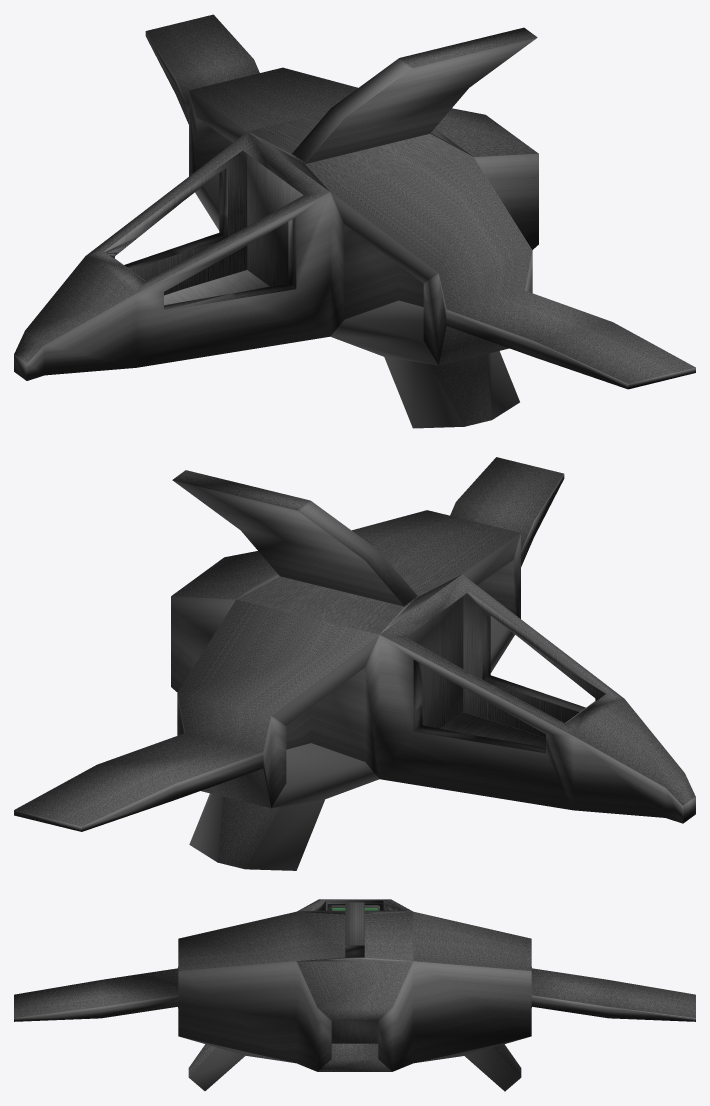
Rendered from Spaceship_w_controlpanel.FBX.
3 renders of one model, top to bottom at view 1: azimuth 30°, elevation 25°; view 2: azimuth 150°, elevation 25°; view 3: azimuth 270°, elevation 25°, orthographic. The views are drawn at different scales.
Parts seen in each view (by area): view 1: Spaceship; view 2: Spaceship; view 3: Spaceship.
Part boxes in pixels (x1,y1,x2,y2): Spaceship: (14,14,695,428); Spaceship: (14,457,695,870); Spaceship: (14,899,695,1091).
Bounding box in the file's own units: 138 × 67.91 × 225.
4 materials, 2 textured.
